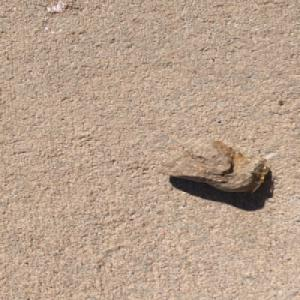Rock: (155, 137, 269, 193)
